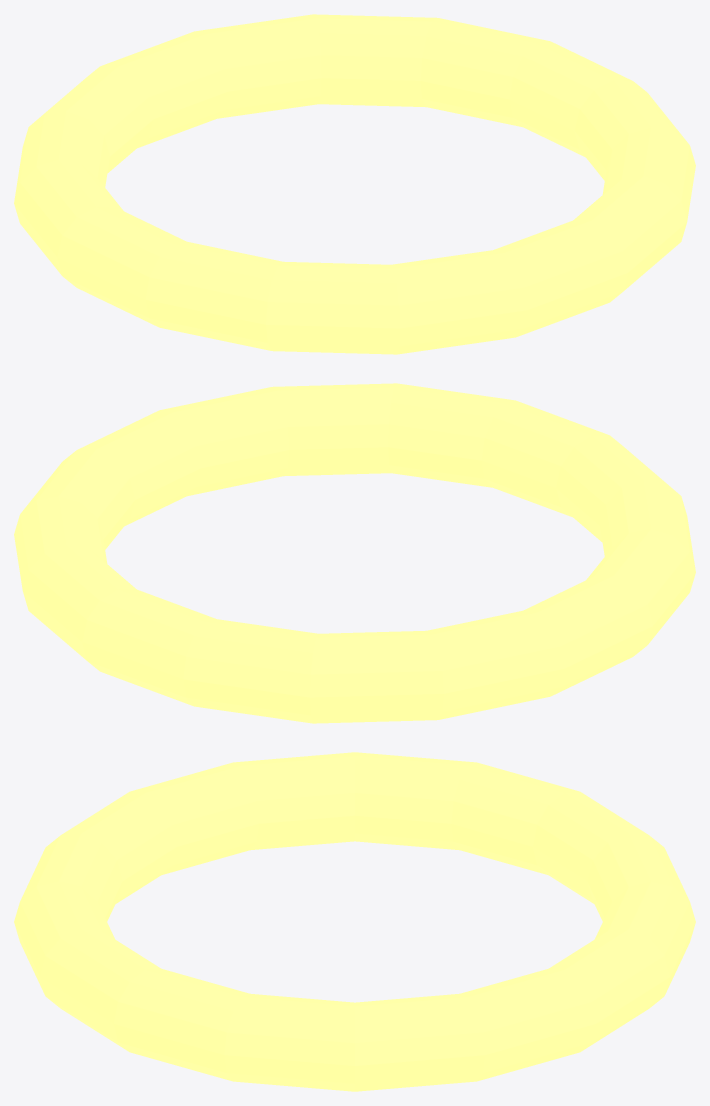
The model's file is Halo.fbx.
3 renders of one model, top to bottom at view 1: azimuth 30°, elevation 25°; view 2: azimuth 150°, elevation 25°; view 3: azimuth 270°, elevation 25°, orthographic.
Parts seen in each view (by area): view 1: Torus; view 2: Torus; view 3: Torus.
Boxes of the visible parts, left/top/right/bottom form: Torus: left=14, top=14, right=695, bottom=354; Torus: left=14, top=383, right=695, bottom=723; Torus: left=14, top=752, right=695, bottom=1091.
Size of the model in its own units: 198 by 26 by 198.
